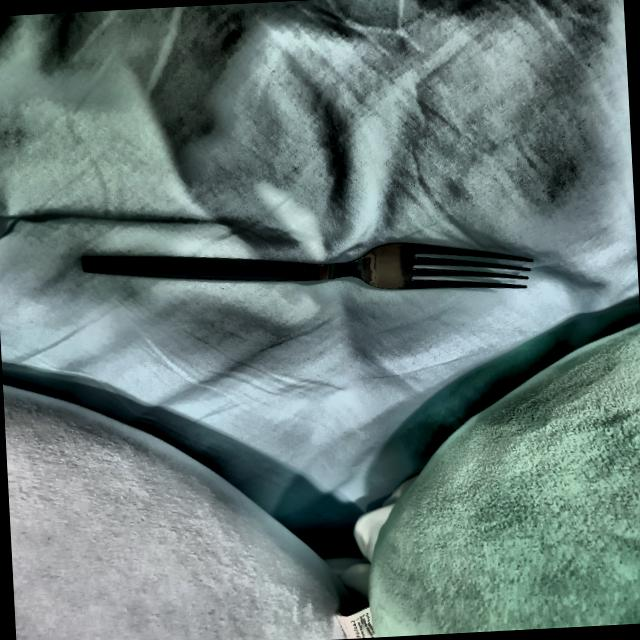plastic utensil: (83, 228, 550, 316)
